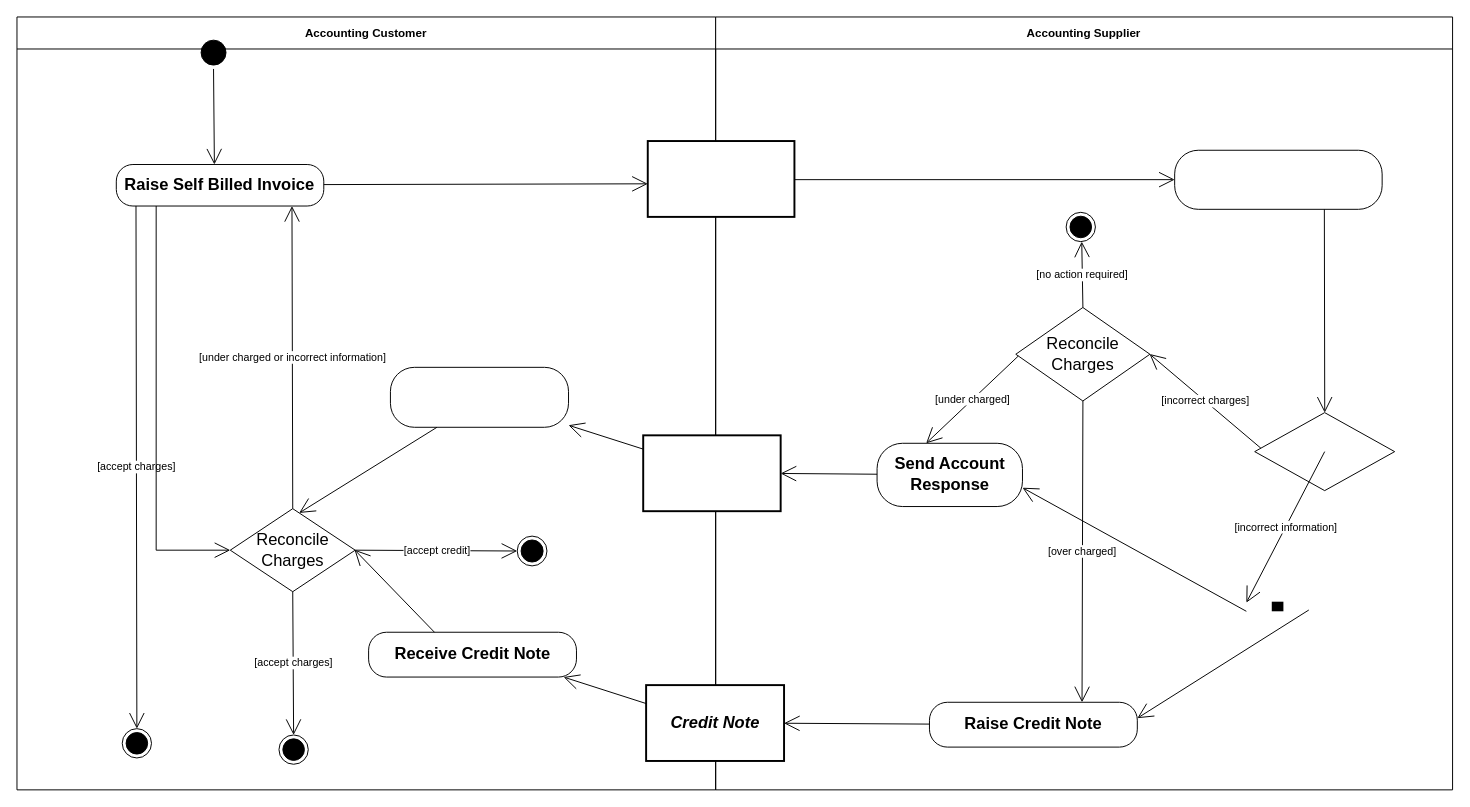
Image size: 1470x807. Some labels were removed from this diagram. Here are the shapes that lost their labels. From the top down, the centre of each, then its label:
(x=720, y=178): Self Billed Invoice
(x=1278, y=179): Receive Self Billed Invoice
(x=479, y=396): Receive Account Response
(x=1324, y=451): Validate Invoice
(x=711, y=473): Application Response
